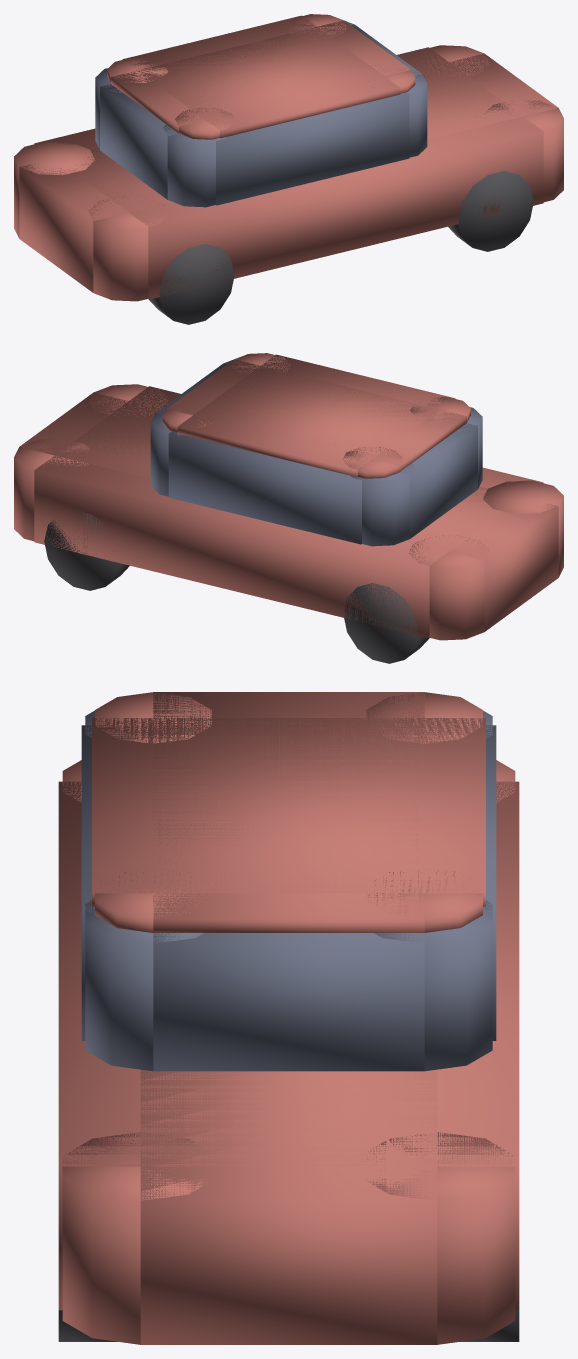
The model's file is car_red.glb.
The picture shows the model from 3 angles, top to bottom: view 1: azimuth 30°, elevation 25°; view 2: azimuth 150°, elevation 25°; view 3: azimuth 270°, elevation 25°; orthographic projection. The views are drawn at different scales.
Parts seen in each view (by area): view 1: car_red_4, car_red_6, car_red_5, car_red_3, car_red_1; view 2: car_red_4, car_red_6, car_red_5, car_red_2, car_red_0; view 3: car_red_4, car_red_6, car_red_5.
Boxes of the visible parts, bbox=[...] form: car_red_4: bbox=[14, 45, 563, 301]; car_red_6: bbox=[107, 14, 415, 139]; car_red_5: bbox=[95, 20, 427, 207]; car_red_3: bbox=[148, 244, 234, 324]; car_red_1: bbox=[448, 171, 533, 251]; car_red_4: bbox=[14, 384, 563, 640]; car_red_6: bbox=[162, 353, 470, 478]; car_red_5: bbox=[150, 359, 482, 546]; car_red_2: bbox=[343, 583, 429, 663]; car_red_0: bbox=[44, 512, 129, 590]; car_red_4: bbox=[58, 760, 519, 1344]; car_red_6: bbox=[92, 692, 485, 932]; car_red_5: bbox=[81, 710, 496, 1071].
Size of the model in its own units: 4.2 by 1.53 by 1.8.
